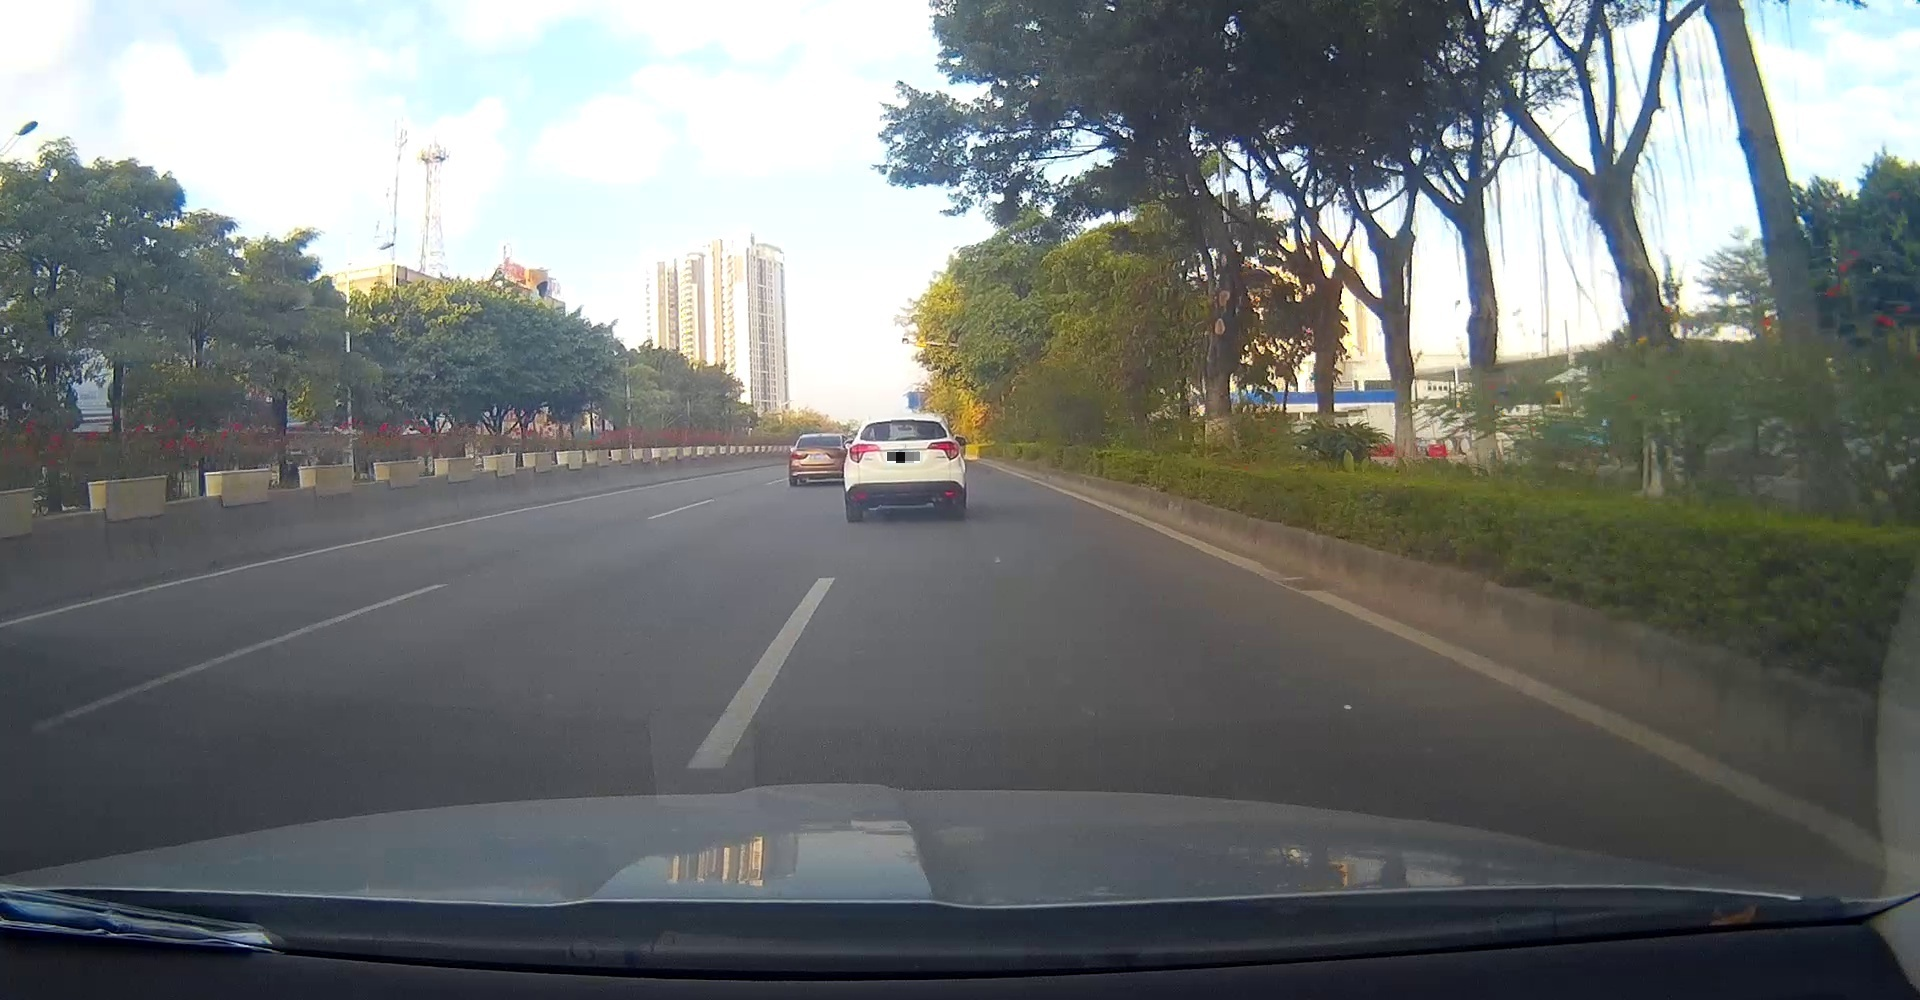L_light: (850, 444, 880, 463)
R_light: (927, 442, 960, 461)
T_light: (891, 419, 916, 423)
day-no: (844, 416, 965, 522)
plate_1: (888, 452, 919, 463)
